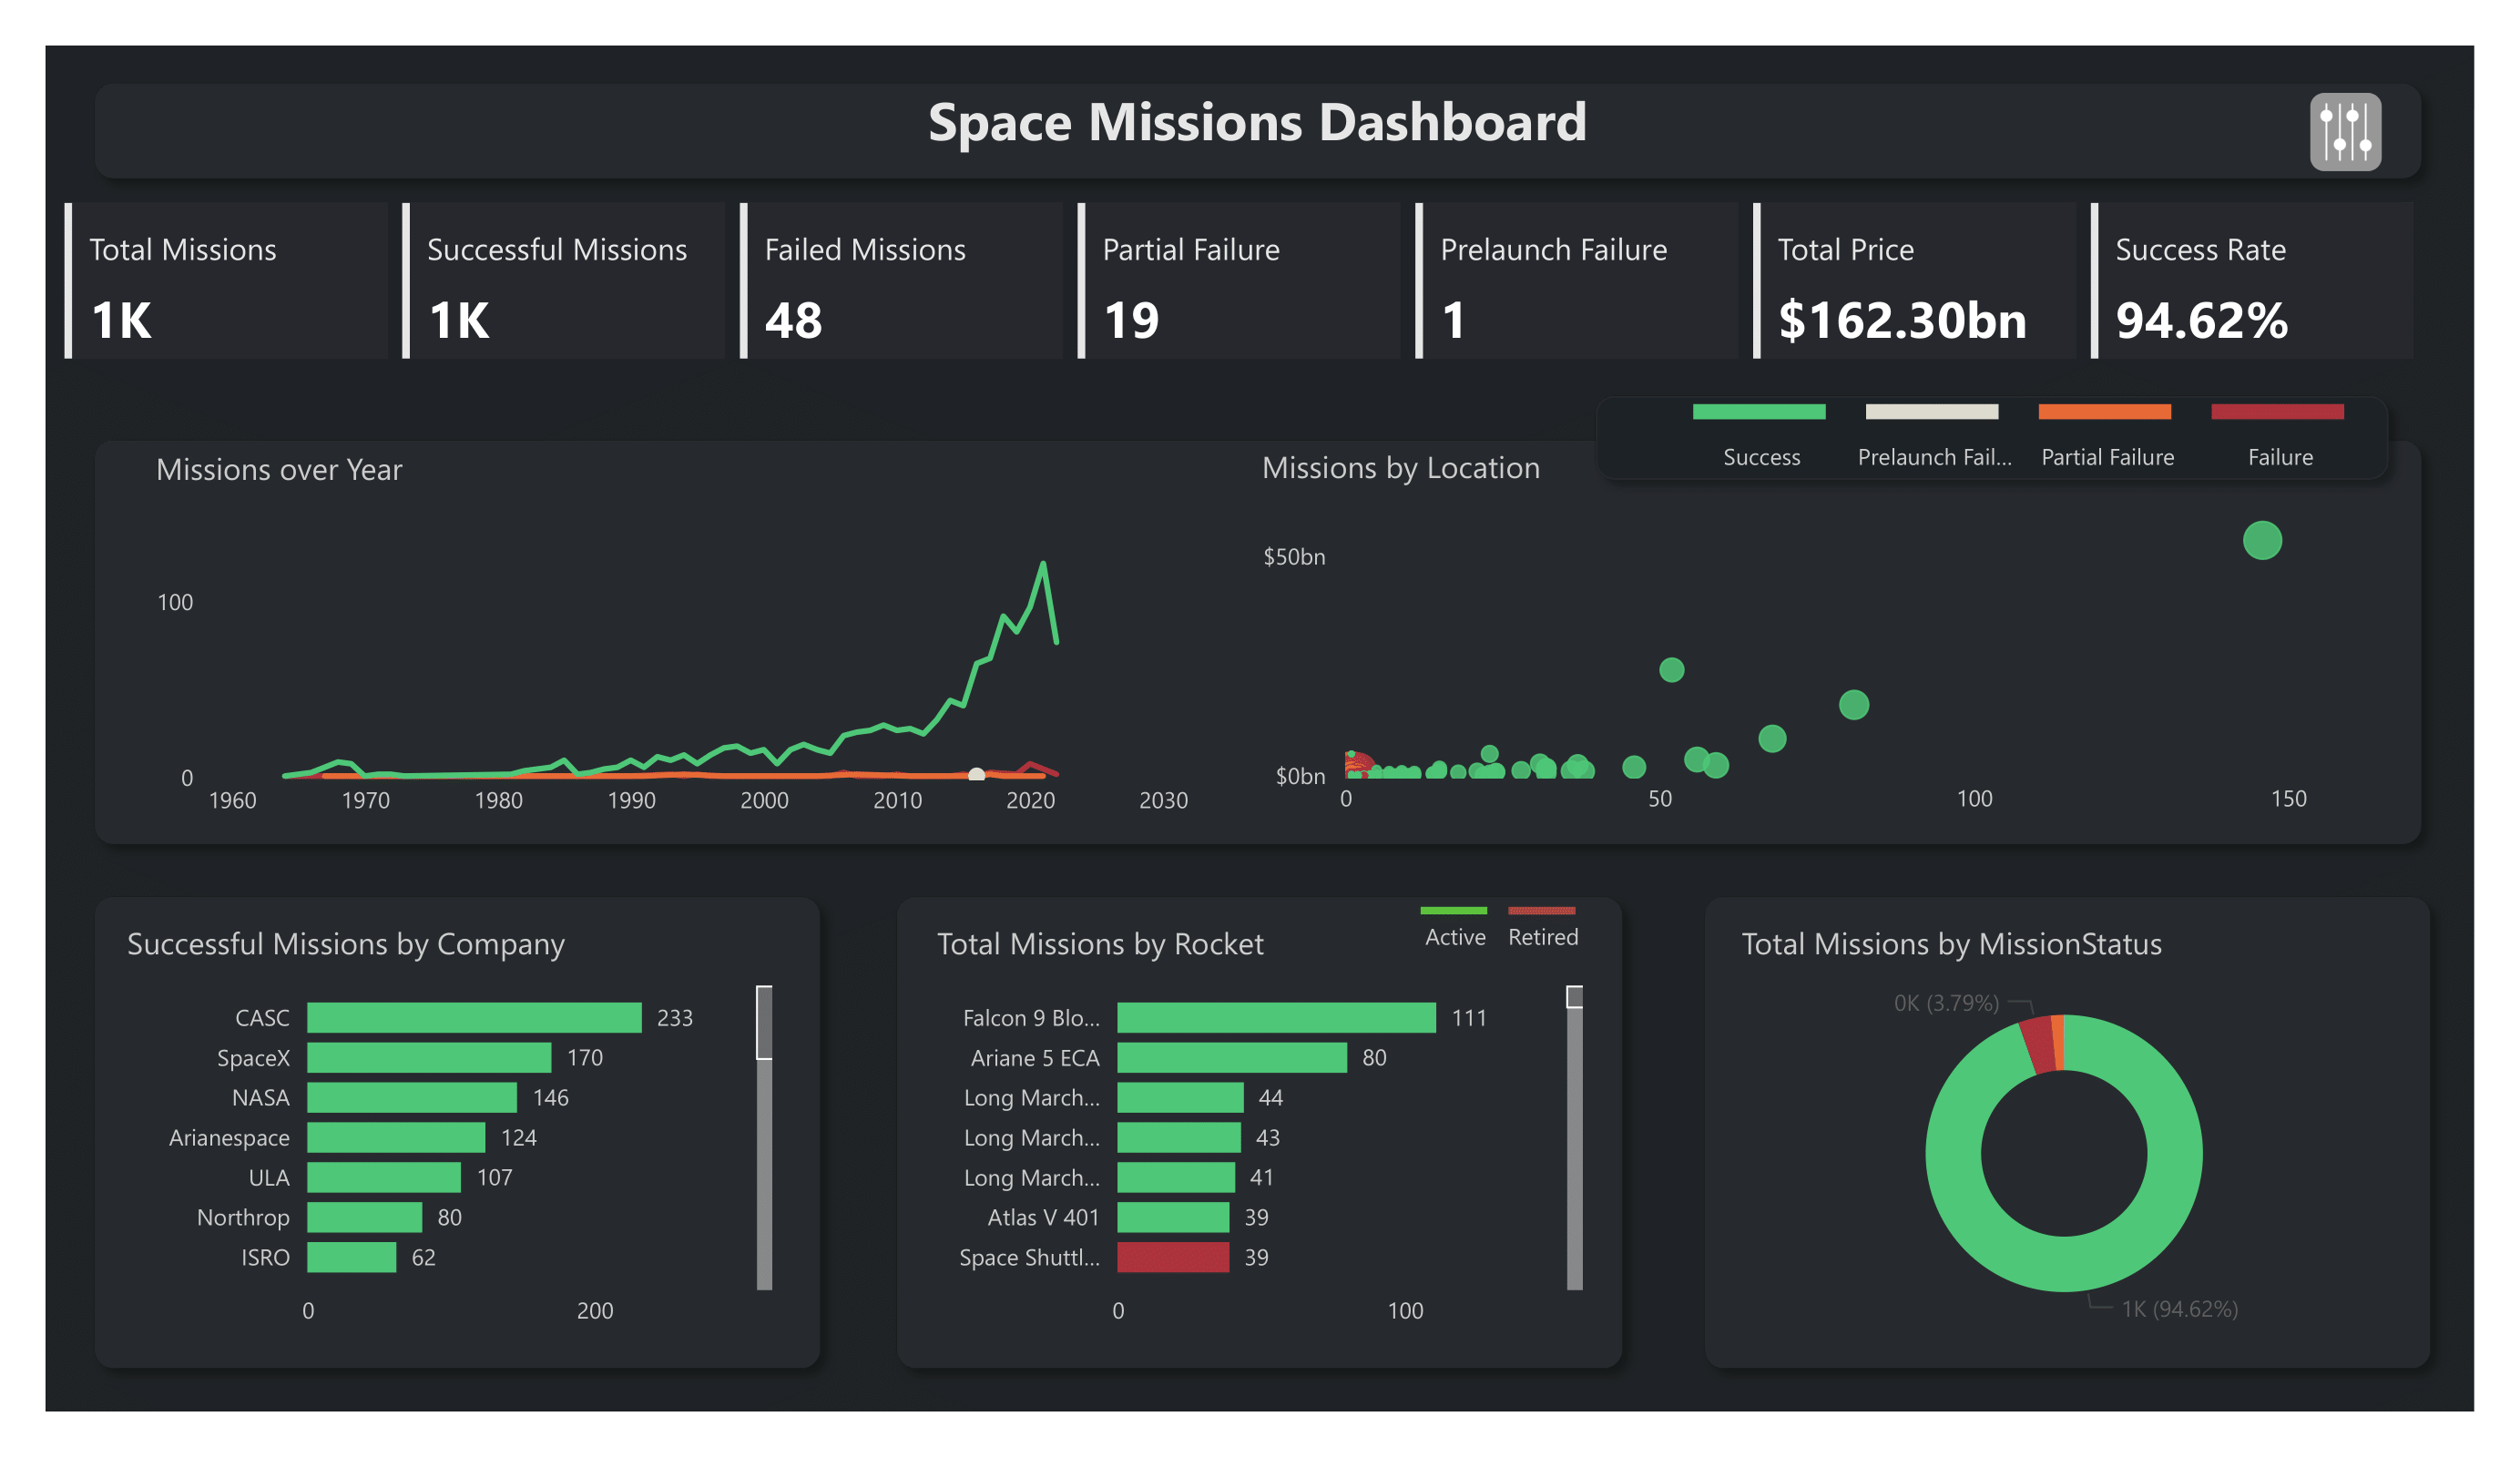

What the dashboard file says about the page in this screenshot:
{"tool":"powerbi","page":{"name":"Sales Missions Visualization","canvas":[1280,720],"ordinal":0},"visuals":[{"type":"shape","box":[17.1,198.6,1244.3,231.4],"z":0},{"type":"shape","box":[17.1,440.4,400,265.7],"z":1000},{"type":"shape","box":[440,440.4,400,265.7],"z":2000},{"type":"shape","box":[865.7,440.4,400,265.7],"z":3000},{"type":"shape","box":[17.1,11.4,1244.3,67.1],"z":4000},{"type":"lineChart","title":"Missions over Year","fields":{"Category":["Date Table.Year"],"Y":["All Measures.Total Missions"],"Series":["Space_Missions.MissionStatus"]},"box":[48,207,564,214],"z":5000},{"type":"scatterChart","title":"Missions by Location","fields":{"X":["All Measures.Total Missions"],"Y":["All Measures.Total Price"],"Category":["Space_Missions.Location"],"Series":["Space_Missions.MissionStatus"],"Size":["All Measures.Successful Missions"]},"box":[631,206,604,214],"z":6000},{"type":"barChart","fields":{"Category":["Space_Missions.Company"],"Y":["All Measures.Successful Missions"]},"box":[33.3,456.7,360,233.3],"z":7000},{"type":"donutChart","fields":{"Y":["All Measures.Total Missions"],"Category":["Space_Missions.MissionStatus"]},"box":[884.4,456.7,360,233.3],"z":8000},{"type":"barChart","fields":{"Category":["Space_Missions.Rocket"],"Y":["All Measures.Total Missions"]},"box":[460,456.7,360,233.3],"z":9000},{"type":"shape","box":[808,176,436,62],"z":10000},{"type":"columnChart","fields":{"Category":["Space_Missions.MissionStatus"],"Y":["All Measures.Legend"]},"box":[808,175,453,62],"z":11000},{"type":"columnChart","fields":{"Y":["All Measures.Legend"],"Category":["Space_Missions.RocketStatus"]},"box":[673.3,440,186.7,53.3],"z":12000},{"type":"cardVisual","fields":{"Data":["All Measures.Total Missions","All Measures.Successful Missions","All Measures.Failed Missions","All Measures.Partial Failure","All Measures.Prelaunch Failure","All Measures.Total Price","All Measures.Success Rate"]},"box":[0,78.2,1261.8,97.3],"z":13000},{"type":"image","title":"Filter Icon","box":[1180,20,64.3,51.4],"z":17000}]}

Visuals, with their boxes on the page's 1280x720 design canvas (x1, y1, x2, y2). These are canvas units, not pixel positions in the 2520x1457 screenshot, which may show the page scaled, cropped or inside an application window:
shape: left=17, top=199, right=1261, bottom=430
shape: left=17, top=440, right=417, bottom=706
shape: left=440, top=440, right=840, bottom=706
shape: left=866, top=440, right=1266, bottom=706
shape: left=17, top=11, right=1261, bottom=78
"Missions over Year" lineChart: left=48, top=207, right=612, bottom=421
"Missions by Location" scatterChart: left=631, top=206, right=1235, bottom=420
barChart - Space_Missions.Company x All Measures.Successful Missions: left=33, top=457, right=393, bottom=690
donutChart - All Measures.Total Missions x Space_Missions.MissionStatus: left=884, top=457, right=1244, bottom=690
barChart - Space_Missions.Rocket x All Measures.Total Missions: left=460, top=457, right=820, bottom=690
shape: left=808, top=176, right=1244, bottom=238
columnChart - Space_Missions.MissionStatus x All Measures.Legend: left=808, top=175, right=1261, bottom=237
columnChart - All Measures.Legend x Space_Missions.RocketStatus: left=673, top=440, right=860, bottom=493
cardVisual - All Measures.Total Missions x All Measures.Successful Missions: left=0, top=78, right=1262, bottom=176
"Filter Icon" image: left=1180, top=20, right=1244, bottom=71
